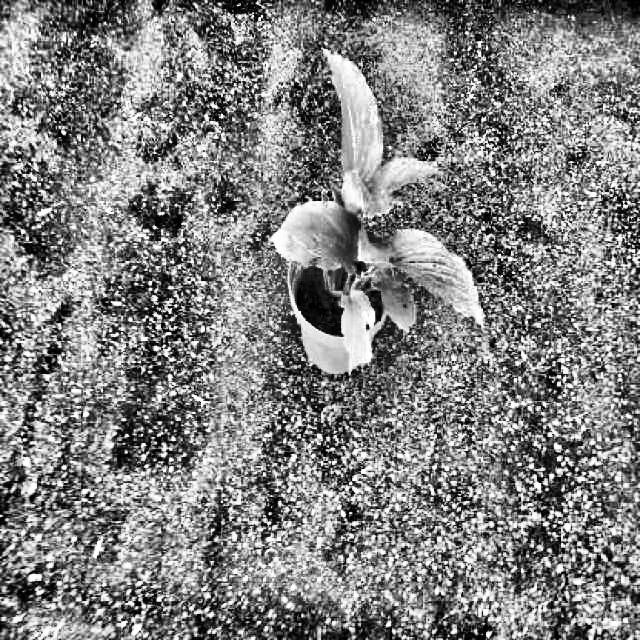plants: (268, 46, 484, 377)
